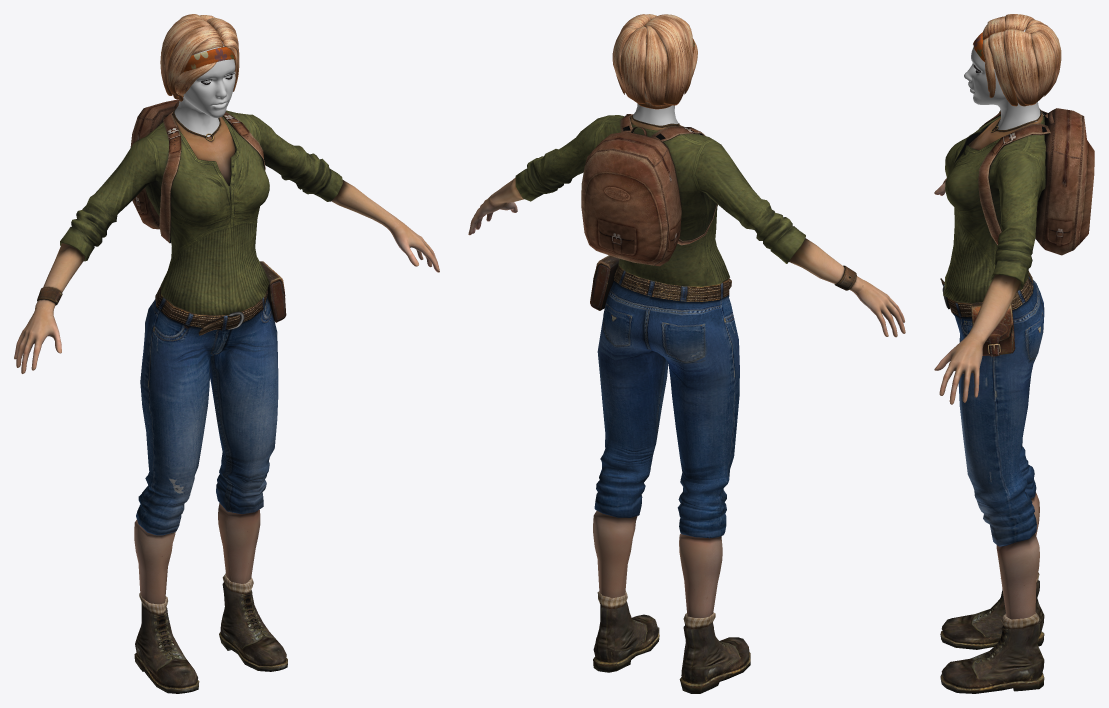
Rendered from Sam_Peters.obj.
3 renders of one model, left to right at view 1: azimuth 30°, elevation 25°; view 2: azimuth 150°, elevation 25°; view 3: azimuth 270°, elevation 25°, orthographic. The views are drawn at different scales.
Parts seen in each view (by area): view 1: Sam_torso, Sam_legs, Sam_boots, Sam_hair, Sam_props, Sam_head; view 2: Sam_legs, Sam_torso, Sam_props, Sam_boots, Sam_hair, Sam_head; view 3: Sam_legs, Sam_torso, Sam_props, Sam_boots, Sam_hair, Sam_head.
Boxes of the visible parts, x1=… form: Sam_torso: x1=14, y1=109, x2=439, y2=373; Sam_legs: x1=134, y1=286, x2=278, y2=604; Sam_boots: x1=134, y1=573, x2=287, y2=693; Sam_hair: x1=160, y1=14, x2=239, y2=101; Sam_props: x1=130, y1=99, x2=286, y2=322; Sam_head: x1=174, y1=42, x2=235, y2=136; Sam_legs: x1=593, y1=265, x2=739, y2=617; Sam_torso: x1=468, y1=114, x2=905, y2=337; Sam_props: x1=581, y1=114, x2=717, y2=310; Sam_boots: x1=593, y1=591, x2=750, y2=693; Sam_hair: x1=612, y1=14, x2=697, y2=109; Sam_head: x1=632, y1=43, x2=678, y2=125; Sam_legs: x1=940, y1=271, x2=1044, y2=619; Sam_torso: x1=934, y1=108, x2=1045, y2=404; Sam_props: x1=971, y1=108, x2=1094, y2=356; Sam_boots: x1=940, y1=572, x2=1044, y2=693; Sam_hair: x1=973, y1=14, x2=1061, y2=106; Sam_head: x1=964, y1=29, x2=1040, y2=129.
Size of the model in its own units: 2.38 by 3.46 by 0.7809.
